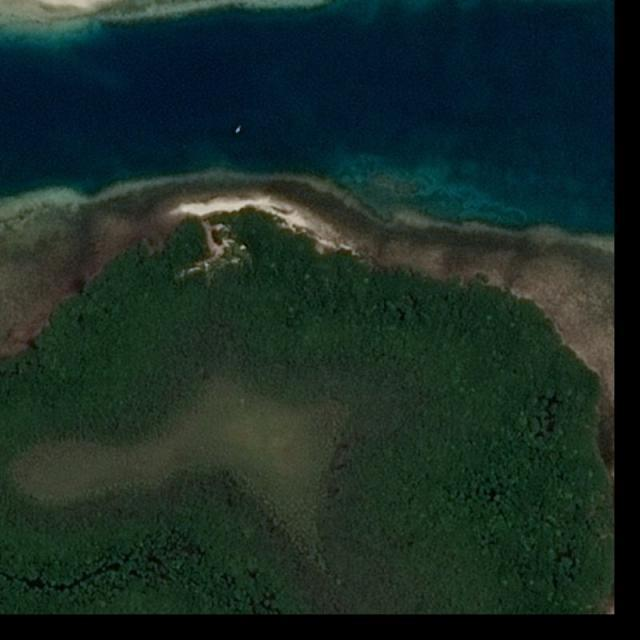ship: (234, 124, 245, 135)
